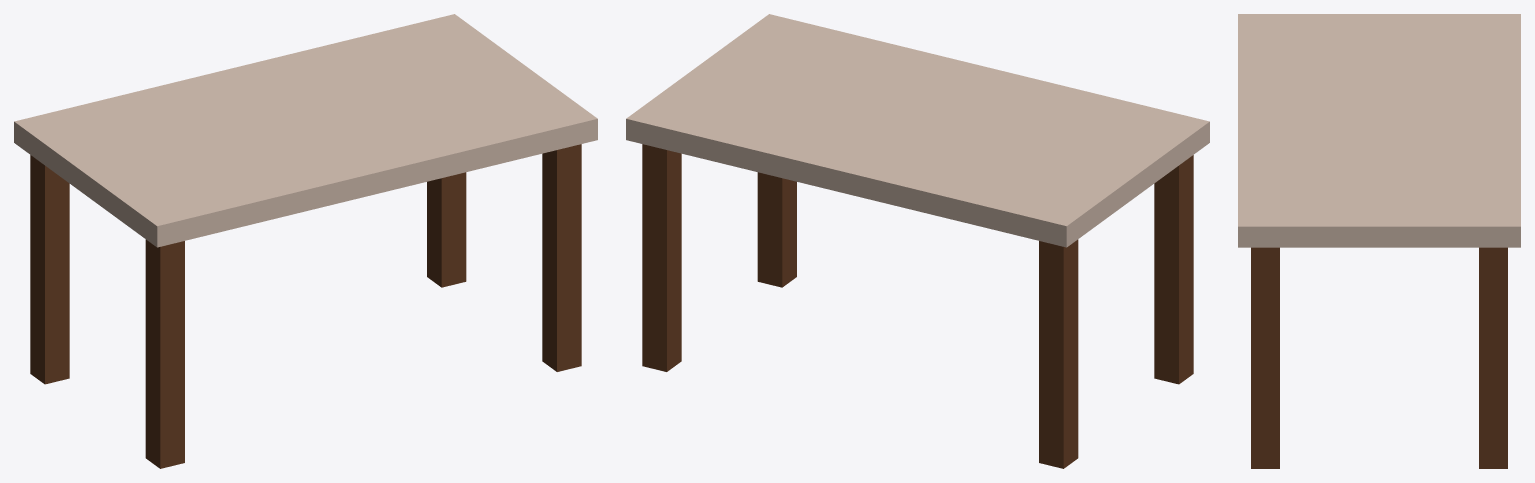
The model's file is Table.fbx.
The picture shows the model from 3 angles, left to right: view 1: azimuth 30°, elevation 25°; view 2: azimuth 150°, elevation 25°; view 3: azimuth 270°, elevation 25°; orthographic projection.
Visible parts, largest first — view 1: Table; view 2: Table; view 3: Table.
Boxes of the visible parts, x1,y1,x2,y2 form: Table: (14, 14, 597, 468); Table: (626, 14, 1209, 468); Table: (1238, 14, 1520, 468).
Size of the model in its own units: 902 by 489 by 508.
